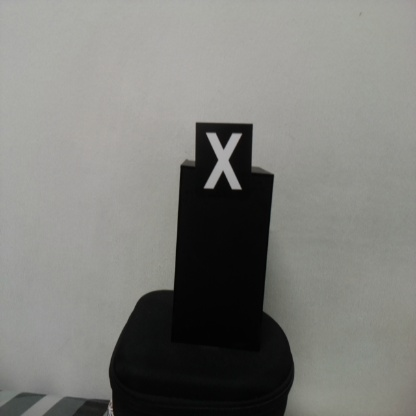id_13: (194, 122, 254, 208)
